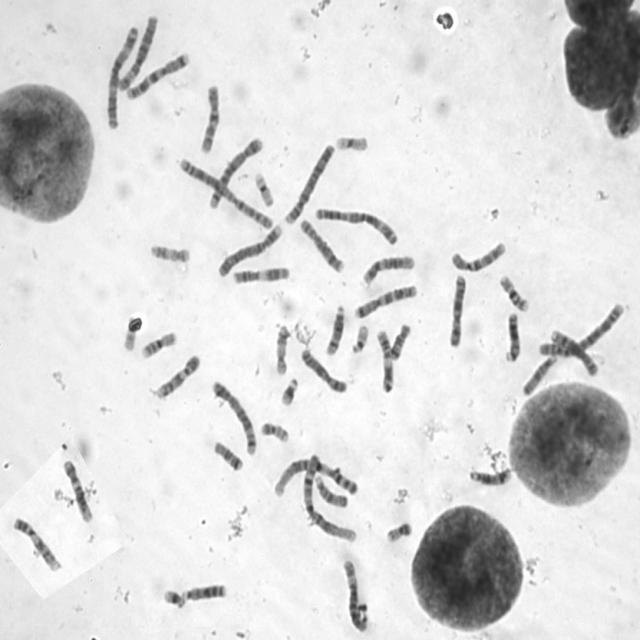A1: (298, 449, 360, 545), (270, 453, 360, 499)
A2: (175, 154, 275, 232), (535, 298, 627, 359)
A3: (103, 21, 140, 130), (312, 204, 399, 247)
B4: (282, 139, 337, 226), (215, 220, 284, 278)
B5: (206, 133, 265, 211), (209, 374, 258, 456)
C10: (447, 236, 510, 274), (197, 81, 223, 155)
C11: (374, 326, 396, 393), (230, 264, 291, 285)
C12: (60, 455, 94, 523), (360, 251, 416, 285)
C6: (116, 10, 160, 92), (340, 556, 371, 633)
C7: (123, 49, 191, 100), (351, 282, 418, 320)
C8: (547, 324, 600, 378), (297, 215, 346, 273)
C9: (10, 512, 61, 572), (154, 351, 202, 399)
D13: (178, 578, 228, 602), (502, 309, 522, 363)
D14: (323, 300, 346, 357), (466, 463, 513, 488)
D15: (519, 350, 559, 398), (310, 470, 350, 509)
E16: (496, 270, 531, 312), (139, 327, 179, 359)
E17: (272, 318, 290, 378), (148, 240, 192, 264)
E18: (210, 436, 246, 472), (388, 320, 412, 361)
F19: (252, 169, 276, 208), (332, 130, 370, 153)
F20: (257, 418, 292, 444), (383, 517, 414, 544)
G21: (277, 372, 300, 408), (160, 582, 187, 610)
G22: (120, 313, 143, 352), (349, 320, 370, 356)
X: (297, 344, 349, 394), (446, 270, 468, 349)
